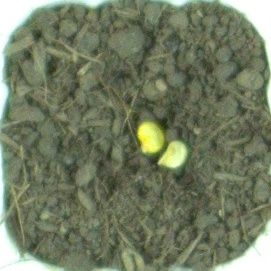chilli seed: (134, 119, 166, 154), (158, 139, 188, 171)
